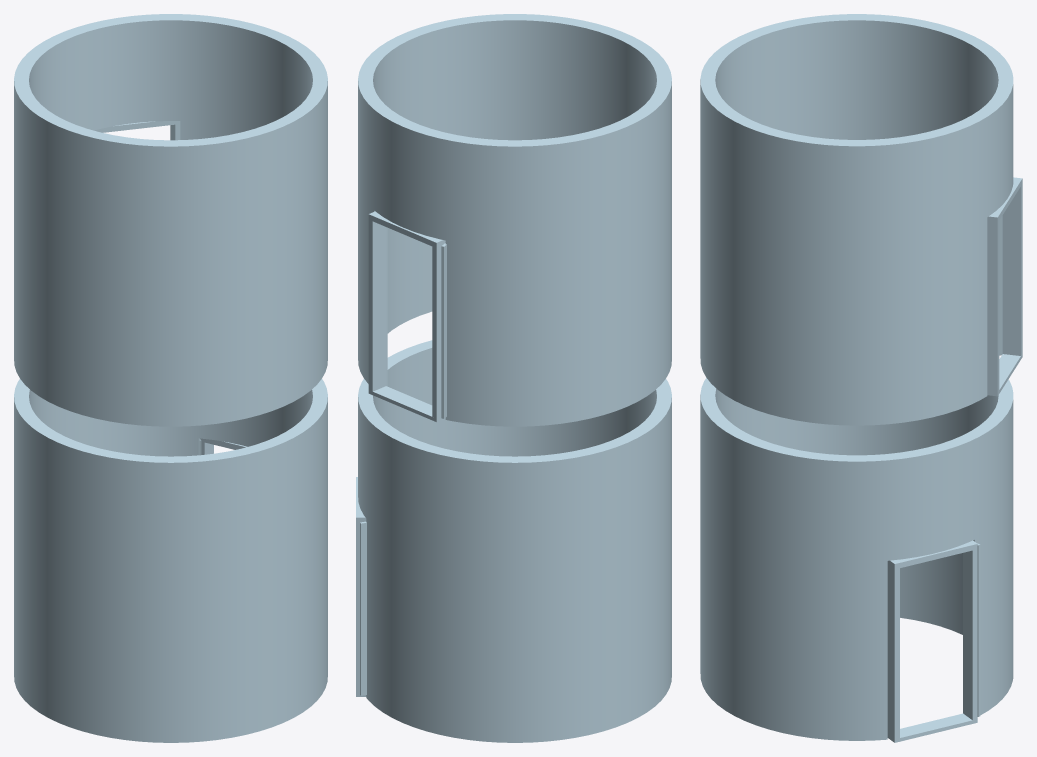
The model's file is elevator_shaft.glb.
3 views of the same model, side by side, from view 1: azimuth 30°, elevation 25°; view 2: azimuth 150°, elevation 25°; view 3: azimuth 270°, elevation 25° (orthographic).
Visible parts, largest first — view 1: Elevator shell 1, Elevator shell 0; view 2: Elevator shell 1, Elevator shell 0, Elevator door frame 1 (×4), Elevator door track 0, Elevator door track 1, Elevator door frame 0; view 3: Elevator shell 1, Elevator shell 0, Elevator door frame 0 (×4), Elevator door frame 1 (×3), Elevator door track 0.
Boxes of the visible parts, <box> form: Elevator shell 1: <box>14,14,327,426</box>; Elevator shell 0: <box>14,379,327,742</box>; Elevator shell 1: <box>358,14,671,426</box>; Elevator shell 0: <box>358,340,671,742</box>; Elevator door frame 1 (×4): <box>368,211,445,421</box>; Elevator door track 0: <box>360,521,366,695</box>; Elevator door track 1: <box>441,243,446,418</box>; Elevator door frame 0: <box>356,515,365,693</box>; Elevator shell 1: <box>700,14,1013,425</box>; Elevator shell 0: <box>700,378,1013,740</box>; Elevator door frame 0 (×4): <box>887,540,977,742</box>; Elevator door frame 1 (×3): <box>987,177,1022,396</box>; Elevator door track 0: <box>977,543,980,716</box>.
Bounding box in the file's own units: 3.2 × 6.6 × 3.24.
